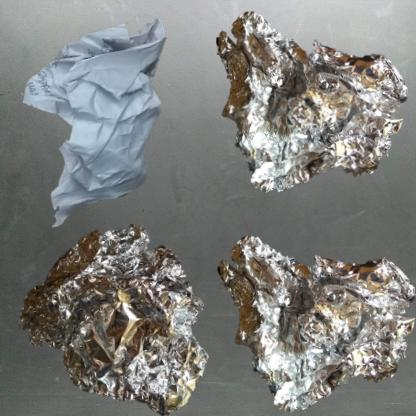aluminio: (10, 213, 223, 416), (213, 213, 416, 416), (213, 10, 409, 195)
papel: (10, 10, 206, 239)
